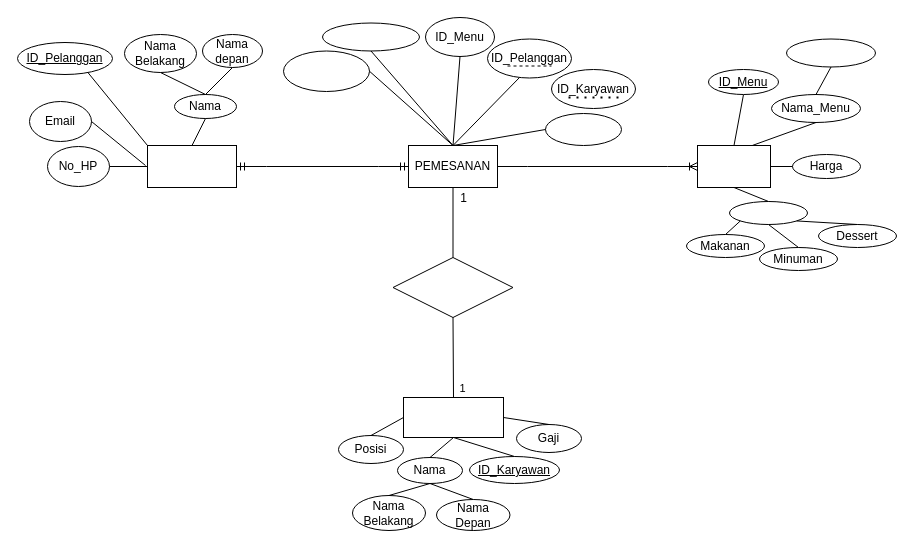
Image size: 914x548. Some labels were removed from this diagram. The shapes that lost their labels are listed below. From the top down, each one's box as (x1, y1, x2, y2) in pixels, then its label:
(322, 22, 420, 51): ID_Pemesanan
(786, 38, 876, 67): Deskripsi
(282, 50, 370, 92): Tanggal_ Pemesanan
(544, 112, 622, 146): Total_Harga
(146, 144, 236, 188): PELANGGAN
(696, 144, 770, 188): MENU
(728, 200, 808, 224): Kategori
(392, 256, 513, 318): Terima
(402, 396, 504, 438): KARYAWAN
